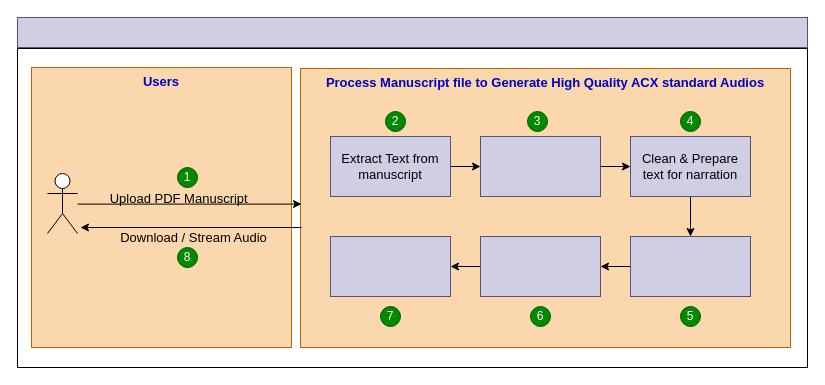
The diagram is 825 pixels wide and 385 high, and some of its shapes have lost their labels. The shapes that lost their labels are listed below. From the top down, each one's box as (x1, y1, x2, y2) in pixels, then its label:
(16, 16, 808, 48): High Level Block Diagram (Book Translator System )
(480, 136, 600, 196): Split Chapters
(46, 172, 78, 234): Actor
(330, 236, 450, 296): Store high quality Audios
(480, 236, 600, 296): Apply ACX standards & Split audio in 1hr max
(630, 236, 750, 296): Generate Audio
